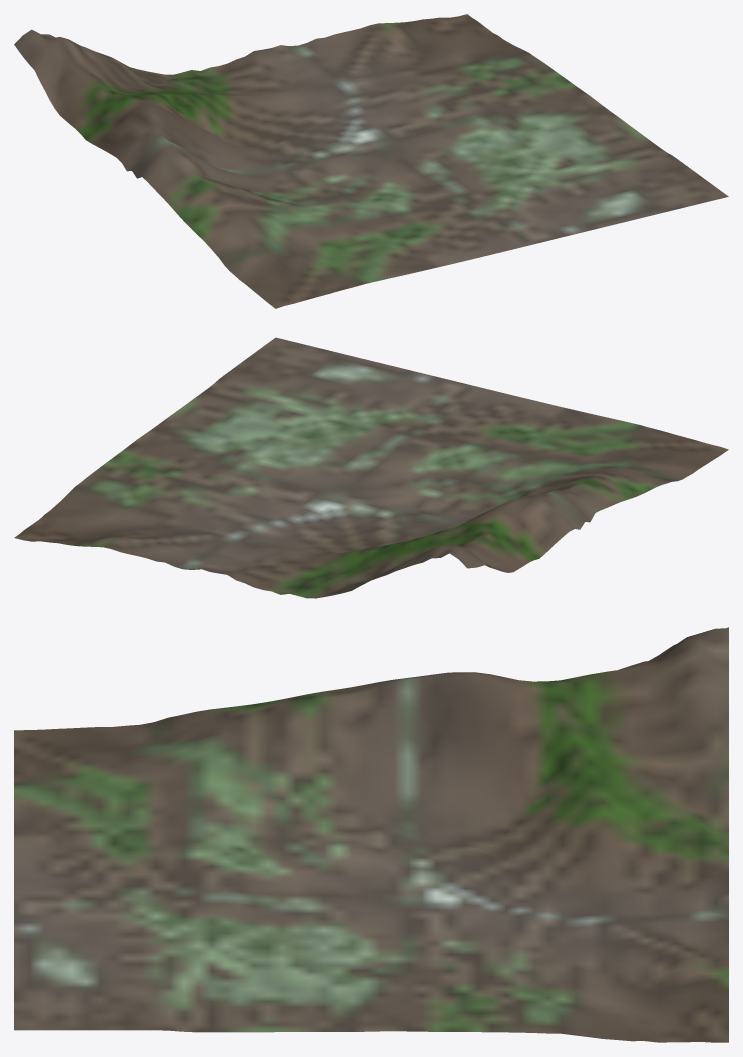
The model's file is chunk13-7_LOD0.obj.
3 renders of one model, top to bottom at view 1: azimuth 30°, elevation 25°; view 2: azimuth 150°, elevation 25°; view 3: azimuth 270°, elevation 25°, orthographic. The views are drawn at different scales.
Parts seen in each view (by area): view 1: chunk_13_7_LOD0; view 2: chunk_13_7_LOD0; view 3: chunk_13_7_LOD0.
Part boxes in pixels (x1,y1,x2,y2): chunk_13_7_LOD0: (14,14,728,308); chunk_13_7_LOD0: (14,337,728,598); chunk_13_7_LOD0: (14,627,728,1042).
Size of the model in its own units: 1994 by 383 by 1994.
Materials: 1 (1 with a texture image).
